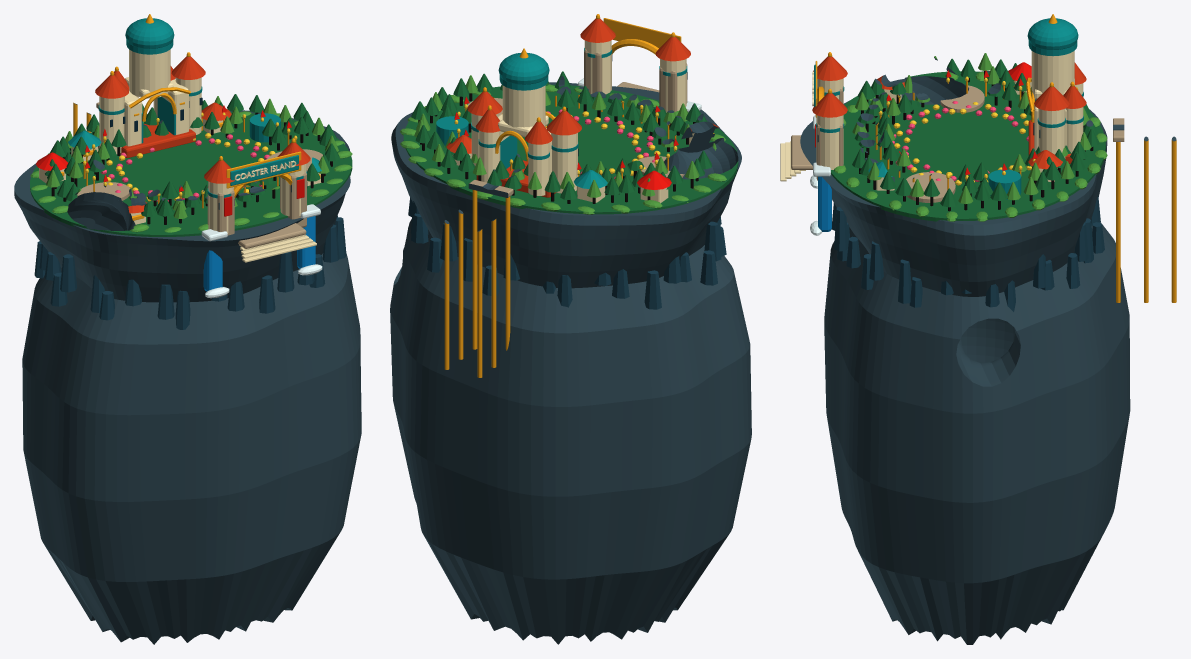
File: coaster-carnival-exterior-v009.glb
The picture shows the model from 3 angles, left to right: view 1: azimuth 30°, elevation 25°; view 2: azimuth 150°, elevation 25°; view 3: azimuth 270°, elevation 25°; orthographic projection. The views are drawn at different scales.
Visible parts, largest first — view 1: ISLAND_19_CIRCUIT_I_STATIC_BATCH; view 2: ISLAND_19_CIRCUIT_I_STATIC_BATCH; view 3: ISLAND_19_CIRCUIT_I_STATIC_BATCH.
Part boxes in pixels (bbox=[...]): ISLAND_19_CIRCUIT_I_STATIC_BATCH: bbox=[14, 14, 361, 644]; ISLAND_19_CIRCUIT_I_STATIC_BATCH: bbox=[390, 14, 751, 644]; ISLAND_19_CIRCUIT_I_STATIC_BATCH: bbox=[780, 14, 1176, 644].
Size of the model in its own units: 18.95 by 32.37 by 19.89.
Materials: 3 (3 with a texture image).
